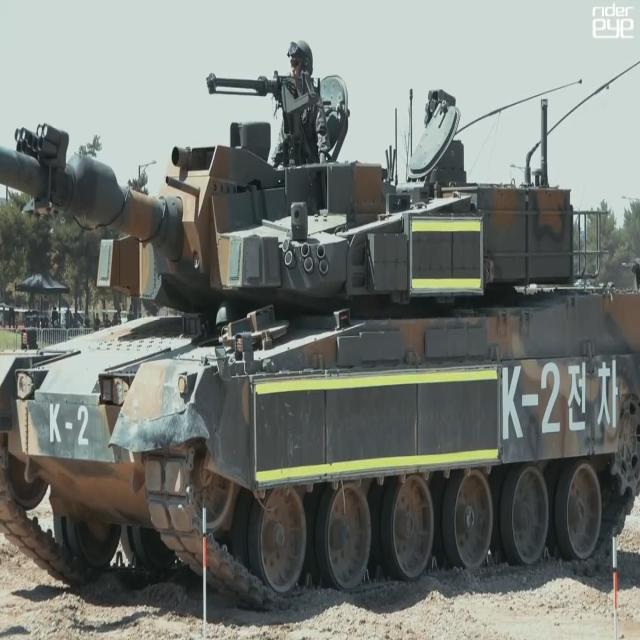korea tank: (0, 35, 640, 610)
